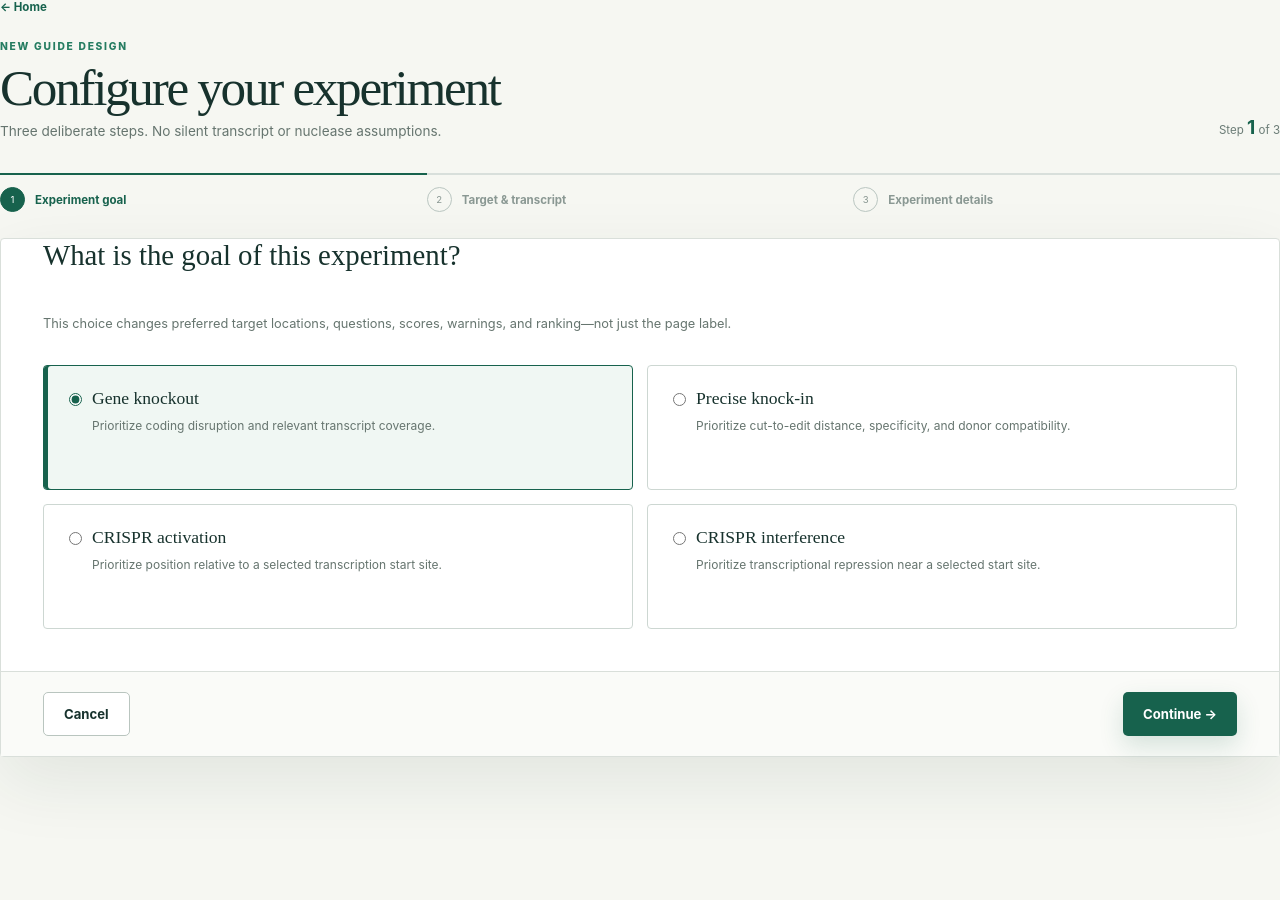
Test: ExperimentWizard › navigates through setup and requires an explicit transcript
Expected: the text "What is the goal of this experiment?" is shown, [43,239,460,272]
Click the button "Continue →" at (1180, 714), box [1123,692,1237,736]
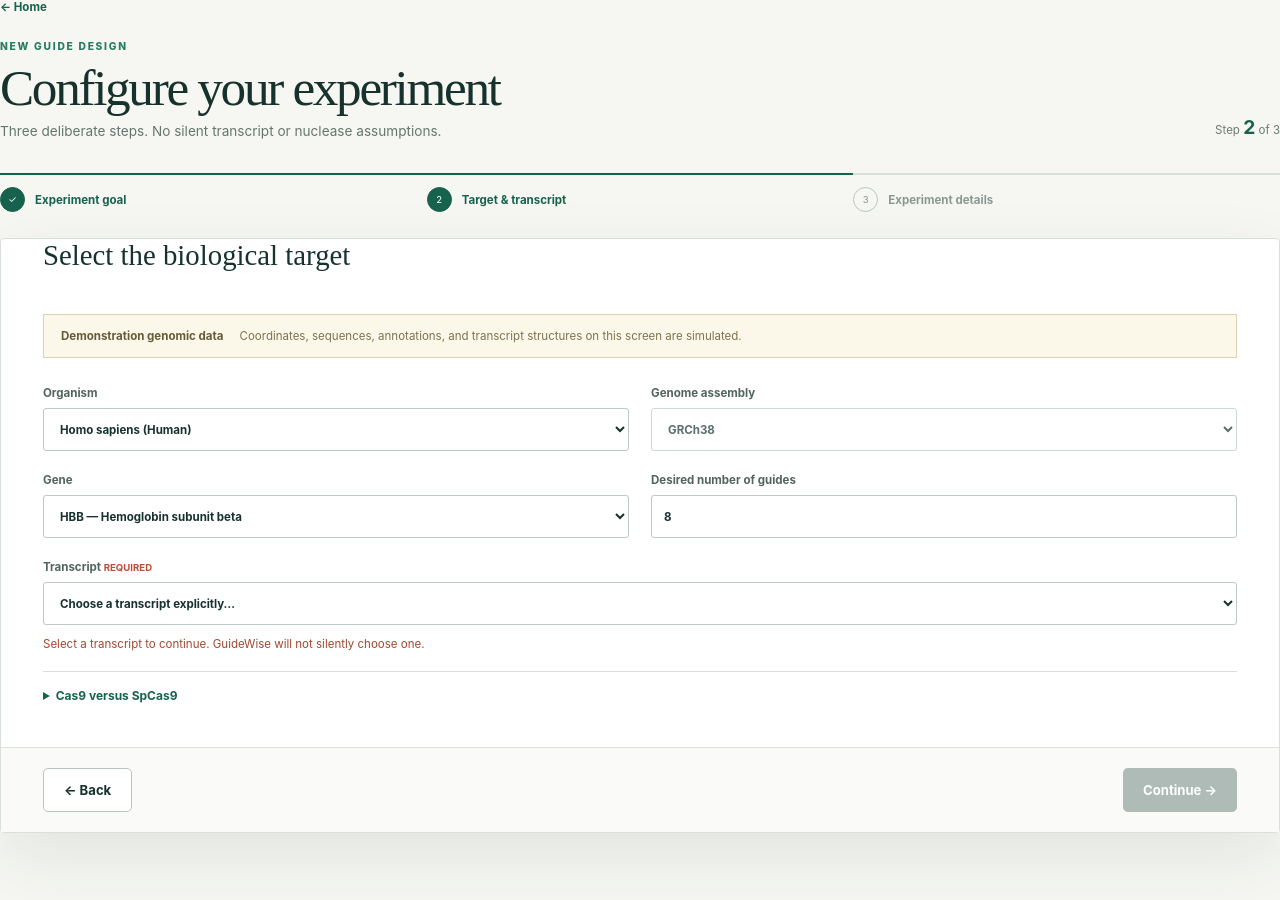
Expected: the text "Select the biological target" is shown, [43,239,350,272]
Expected: the button "Continue →" is disabled, [1123,768,1237,812]
Select "ENST-HBB-001 · canonical" in the dropdown labelled "Transcript required" at (640, 604), box [43,582,1237,625]
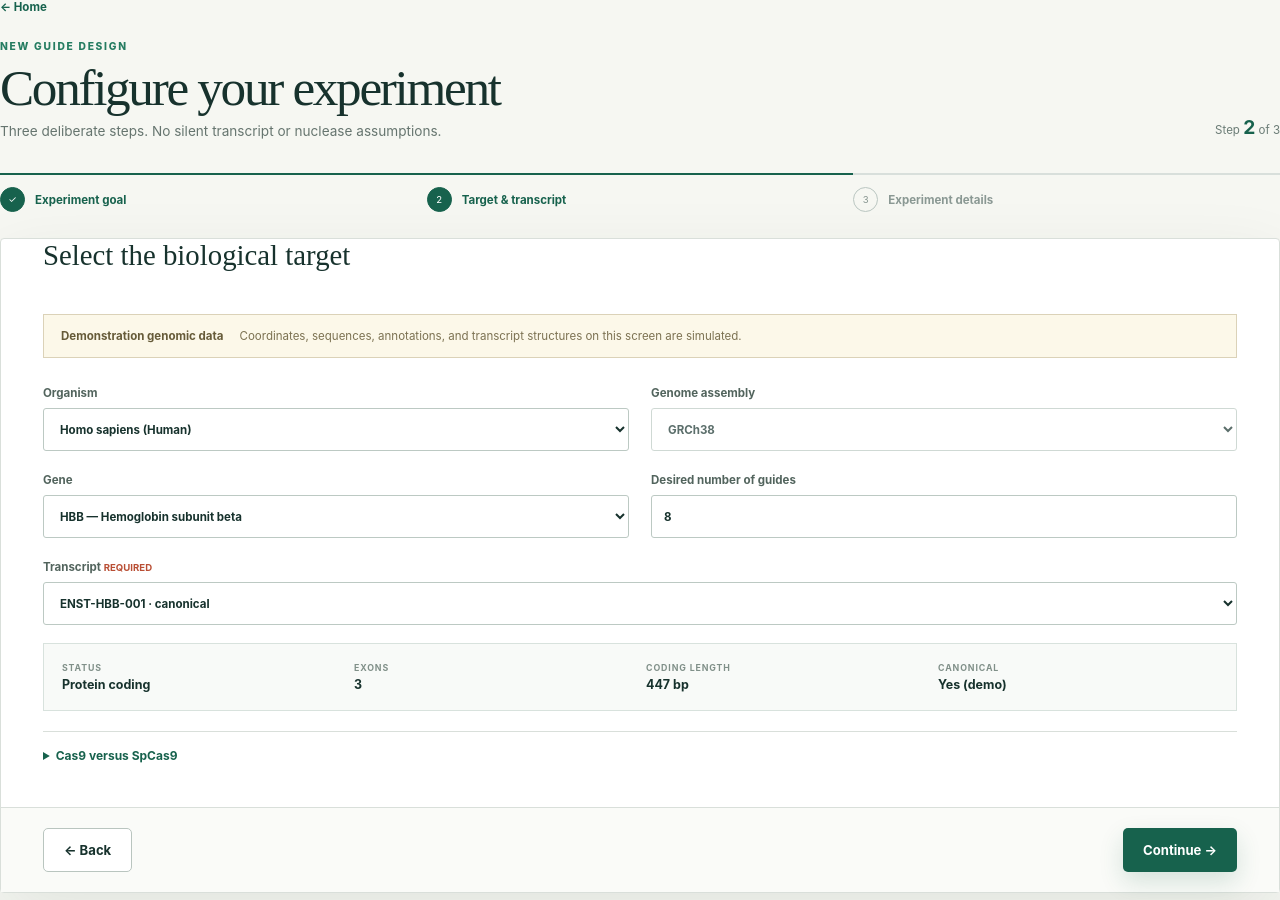
Expected: the button "Continue →" is enabled, [1123,828,1237,872]
